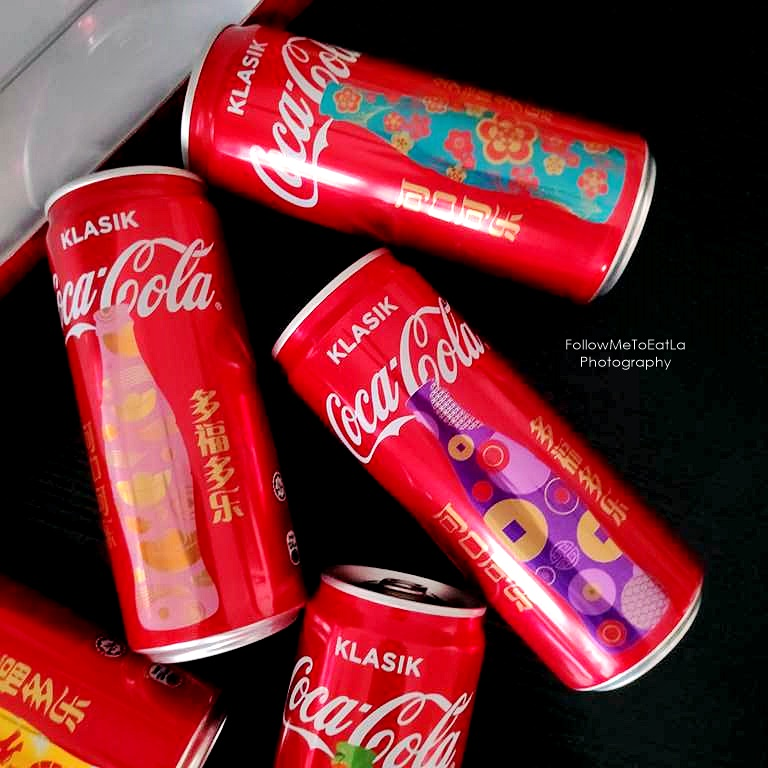cocacola_blue_flowers: (181, 16, 661, 289)
cocacola_pink_feather: (44, 181, 296, 635)
cocacola_violet_balls: (285, 250, 704, 673)
